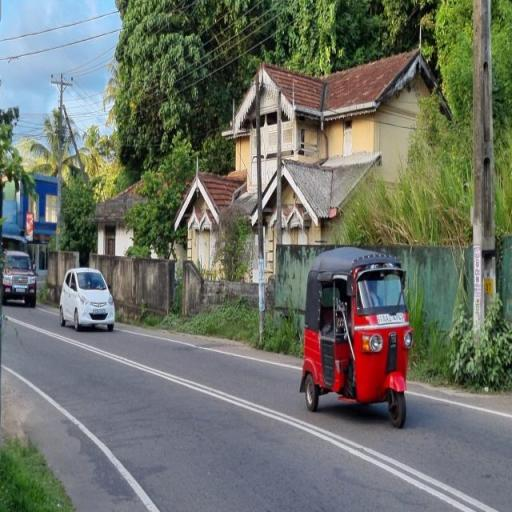double_white_line: (253, 380, 496, 510), (0, 358, 164, 512)
